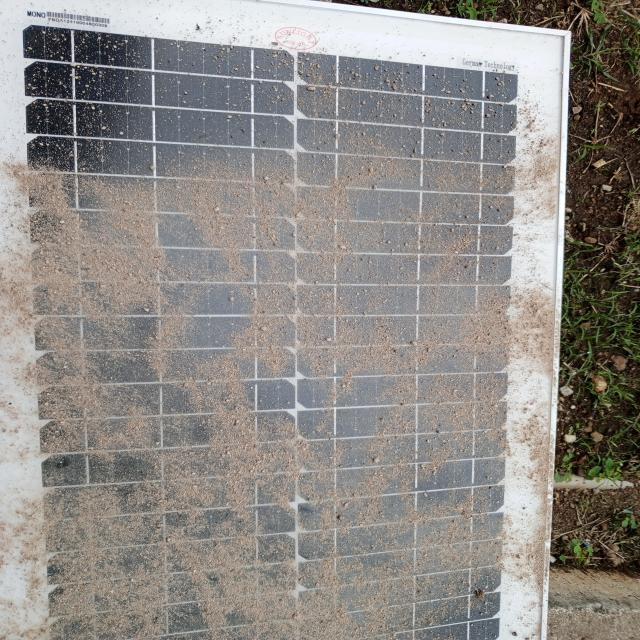Anomaly Solar Panel: (14, 44, 544, 639)
Surface Contaminant: (14, 83, 523, 639)
